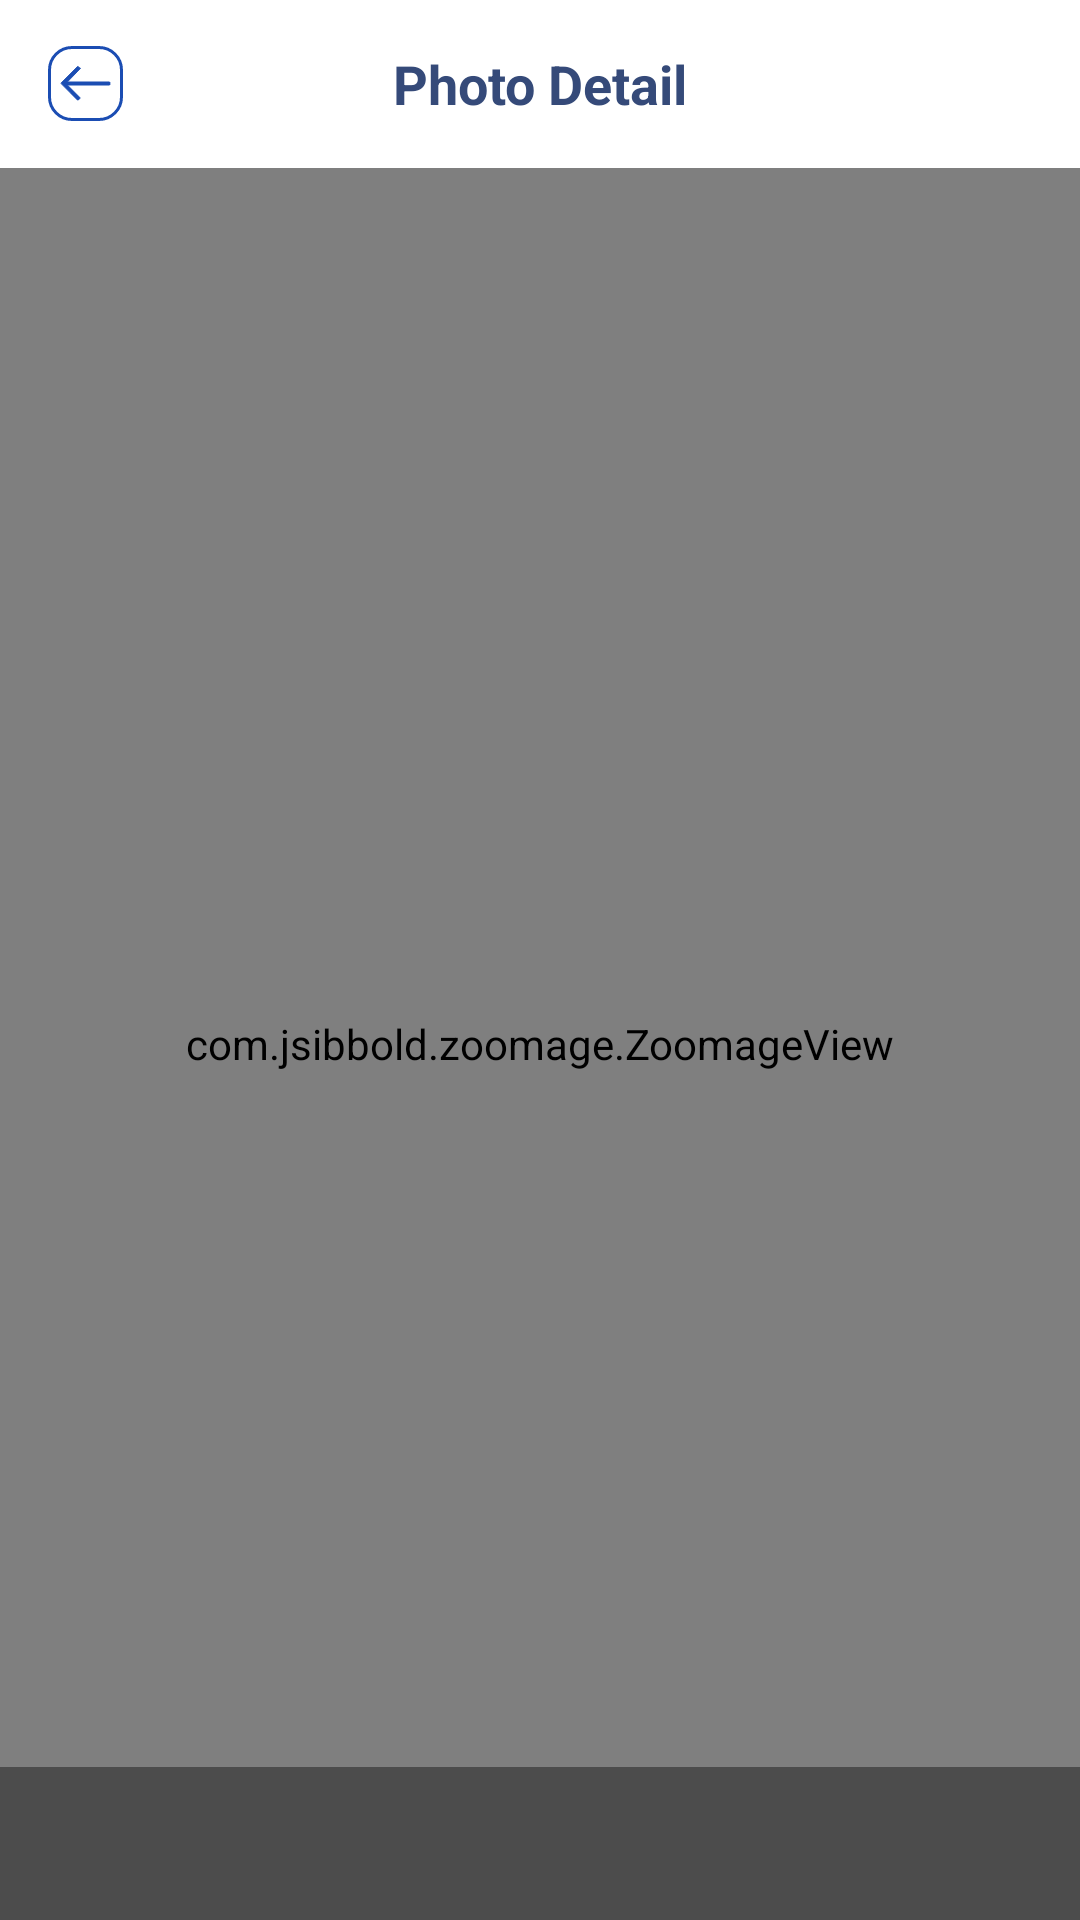

Icons on this 1080 x 1920 Android screen, each with the point to tap as [x,y]:
back bordered: [85,83]
